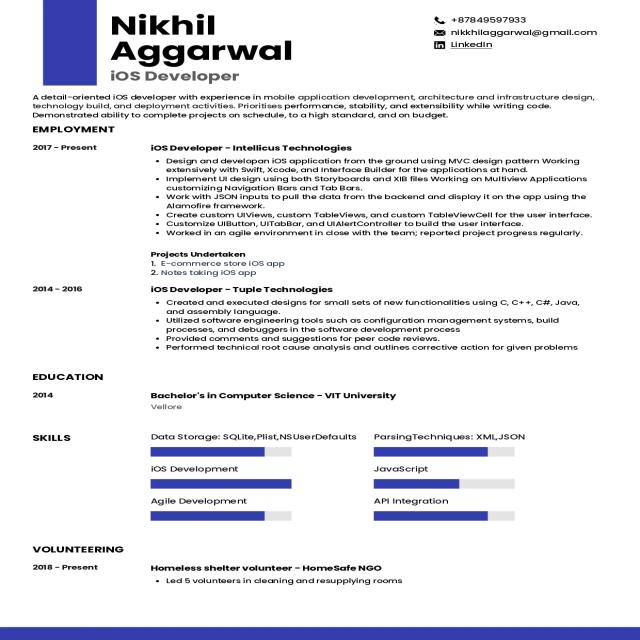contact: (423, 11, 619, 58)
education: (29, 372, 417, 422)
experience: (29, 125, 601, 371)
header: (107, 0, 320, 86)
skills: (28, 426, 547, 528)
summary: (26, 89, 602, 123)
